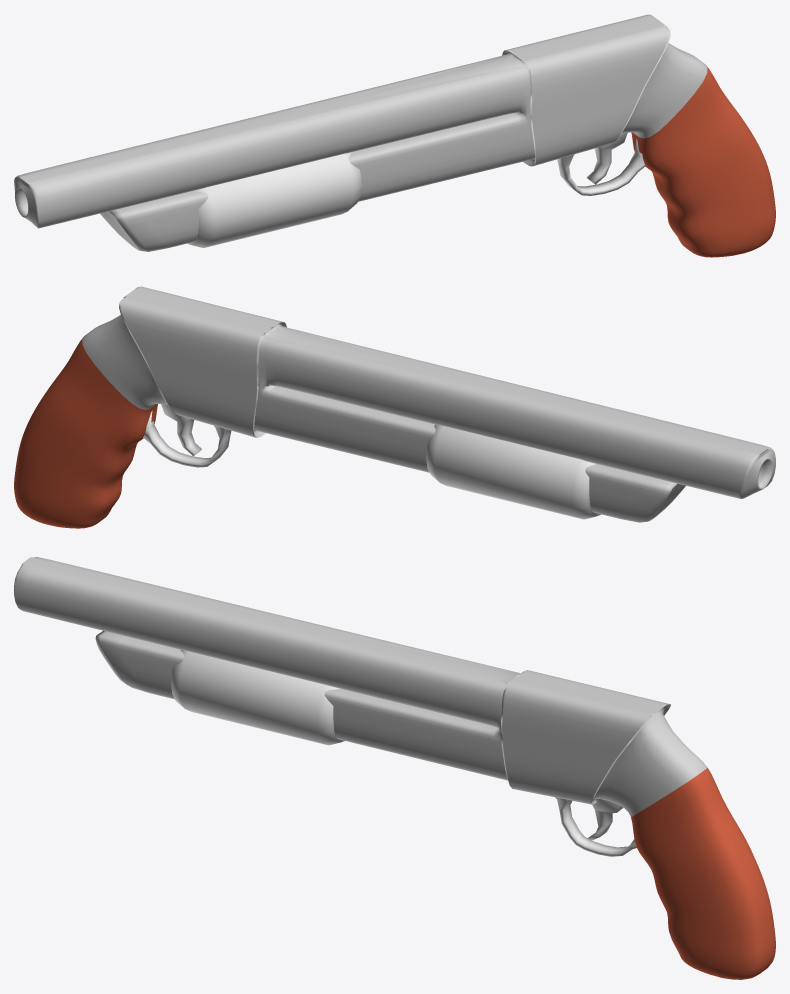
Rendered from Shotgun.fbx.
3 renders of one model, top to bottom at view 1: azimuth 30°, elevation 25°; view 2: azimuth 150°, elevation 25°; view 3: azimuth 330°, elevation 25°, orthographic.
Parts seen in each view (by area): view 1: Shotgun, Cylinder, Trigger Ring; view 2: Shotgun, Cylinder, Trigger Ring; view 3: Shotgun, Cylinder, Trigger Ring.
Boxes of the visible parts, <box> form: Shotgun: <box>14,14,775,257</box>; Cylinder: <box>187,152,361,247</box>; Trigger Ring: <box>557,132,645,195</box>; Shotgun: <box>14,286,775,528</box>; Cylinder: <box>426,424,601,519</box>; Trigger Ring: <box>143,404,231,467</box>; Shotgun: <box>14,557,775,979</box>; Cylinder: <box>171,649,344,745</box>; Trigger Ring: <box>555,797,636,856</box>.
Bounding box in the file's own units: 1481 × 463 × 134.
